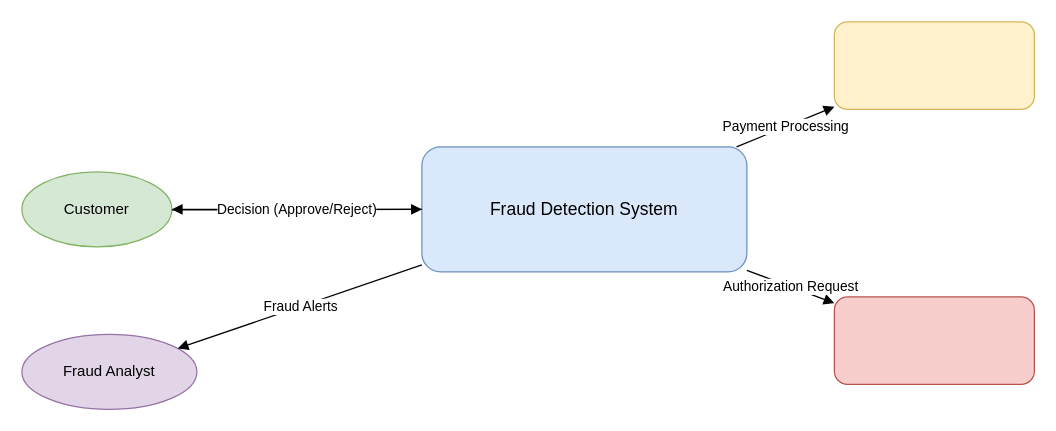
Image size: 1056x431. Some labels were removed from this diagram. Here are the shapes that lost their labels. From the top down, the centre of each, then its label:
the point at 933,65: Payment Gateway
the point at 933,340: Bank API
